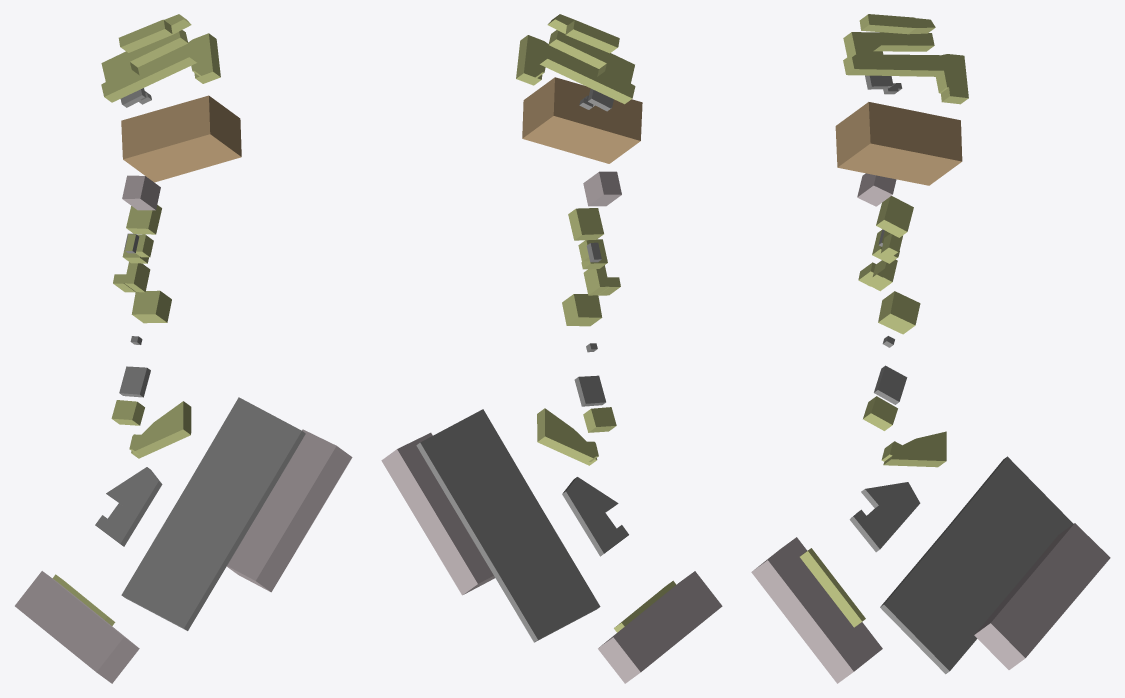
3 views of the same model, side by side, from view 1: azimuth 30°, elevation 25°; view 2: azimuth 150°, elevation 25°; view 3: azimuth 330°, elevation 25° (orthographic). The views are drawn at different scales.
Parts seen in each view (by area): view 1: 0_1_2_0_1_3; view 2: 0_1_2_0_1_3; view 3: 0_1_2_0_1_3.
Part boxes in pixels (x1,y1,x2,y2): 0_1_2_0_1_3: (15, 14, 352, 683); 0_1_2_0_1_3: (381, 14, 722, 683); 0_1_2_0_1_3: (751, 14, 1110, 683).
Size of the model in its own units: 142 by 270 by 29.58.
